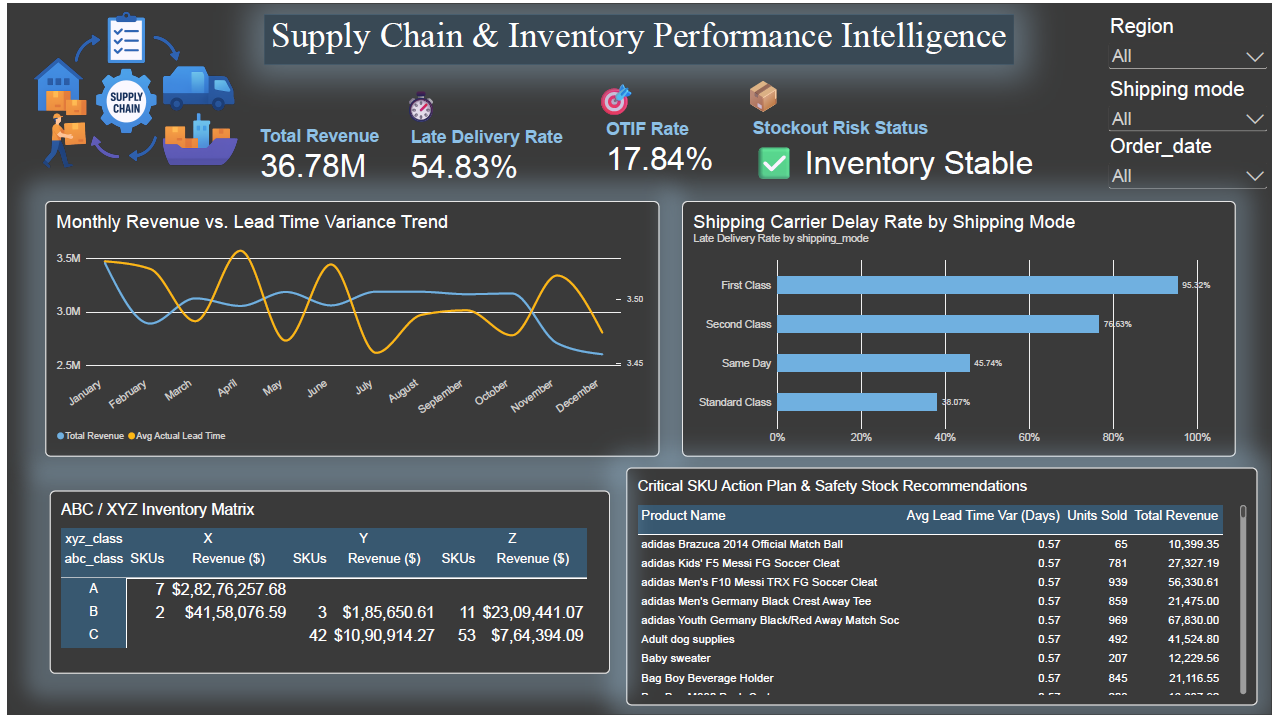

What the dashboard file says about the page in this screenshot:
{"tool":"powerbi","page":{"name":"Page 1","canvas":[1920,1080],"ordinal":0},"visuals":[{"type":"textbox","box":[390.2,16.6,1139.3,75.5],"z":0},{"type":"image","box":[9.2,0,381,261.4],"z":1000},{"type":"slicer","fields":{"Values":["public fact_orders.shipping_mode"]},"box":[1667.5,112.3,252.1,90.2],"z":3000},{"type":"slicer","fields":{"Values":["public fact_orders.order_date"]},"box":[1667.5,198.8,252.1,90.2],"z":4000},{"type":"cardVisual","fields":{"Data":["all_measures.total_revenue"]},"box":[368.1,162,215.3,138],"z":5000},{"type":"cardVisual","title":"⏱️","fields":{"Data":["all_measures.late_delivery_rate%"]},"box":[596.3,123.3,296.3,149.1],"z":6000},{"type":"cardVisual","title":"🎯","fields":{"Data":["all_measures.OTIF rate %"]},"box":[892.6,112.3,195.1,149.1],"z":7000},{"type":"cardVisual","title":"📦","fields":{"Data":["all_measures.Stockout Risk Status"]},"box":[1115.6,107,514.6,164.7],"z":8000},{"type":"lineChart","title":"Monthly Revenue vs. Lead Time Variance Trend","fields":{"Category":["public fact_orders.order_date.Variation.Date Hierarchy.Month"],"Y":["all_measures.total_revenue"],"Y2":["all_measures.Avg Actual Lead Time"]},"box":[57.1,300,933.1,388.3],"z":9000},{"type":"clusteredBarChart","title":"Shipping Carrier Delay Rate by Shipping Mode","fields":{"Category":["public fact_orders.shipping_mode"],"Y":["all_measures.late_delivery_rate%"]},"box":[1025.2,300,841.1,388.3],"z":10000},{"type":"tableEx","title":"Critical SKU Action Plan & Safety Stock Recommendations","fields":{"Values":["public dim_product.product_name","all_measures.Avg Lead Time Var (Days)","Sum(abc_xyz_inventory_segmented.total_unit_sold)","Sum(abc_xyz_inventory_segmented.total_revenue)"]},"box":[940.5,704.9,958.9,360.7],"z":11000},{"type":"pivotTable","title":"ABC / XYZ Inventory Matrix","fields":{"Columns":["abc_xyz_inventory_segmented.xyz_class"],"Rows":["abc_xyz_inventory_segmented.abc_class"],"Values":["Count(abc_xyz_inventory_segmented.product_card_id)","Sum(abc_xyz_inventory_segmented.total_revenue)"]},"box":[64.4,739.9,850.3,277.9],"z":12000},{"type":"slicer","fields":{"Values":["public dim_location.region"]},"box":[1667.5,16.6,252.1,90.2],"z":12001}]}

Visuals, with their boxes in screenshot pixels (x1, y1, x2, y2), scaled from the page's 1920x1080 canvas onto the 1280x722 screenshot:
textbox: {"x1": 260, "y1": 11, "x2": 1020, "y2": 62}
image: {"x1": 6, "y1": 0, "x2": 260, "y2": 175}
slicer - public fact_orders.shipping_mode: {"x1": 1112, "y1": 75, "x2": 1279, "y2": 135}
slicer - public fact_orders.order_date: {"x1": 1112, "y1": 133, "x2": 1279, "y2": 193}
cardVisual - all_measures.total_revenue: {"x1": 245, "y1": 108, "x2": 389, "y2": 201}
"⏱️" cardVisual: {"x1": 398, "y1": 82, "x2": 595, "y2": 182}
"🎯" cardVisual: {"x1": 595, "y1": 75, "x2": 725, "y2": 175}
"📦" cardVisual: {"x1": 744, "y1": 72, "x2": 1087, "y2": 182}
"Monthly Revenue vs. Lead Time Variance Trend" lineChart: {"x1": 38, "y1": 201, "x2": 660, "y2": 460}
"Shipping Carrier Delay Rate by Shipping Mode" clusteredBarChart: {"x1": 683, "y1": 201, "x2": 1244, "y2": 460}
"Critical SKU Action Plan & Safety Stock Recommendations" tableEx: {"x1": 627, "y1": 471, "x2": 1266, "y2": 712}
"ABC / XYZ Inventory Matrix" pivotTable: {"x1": 43, "y1": 495, "x2": 610, "y2": 680}
slicer - public dim_location.region: {"x1": 1112, "y1": 11, "x2": 1279, "y2": 71}
